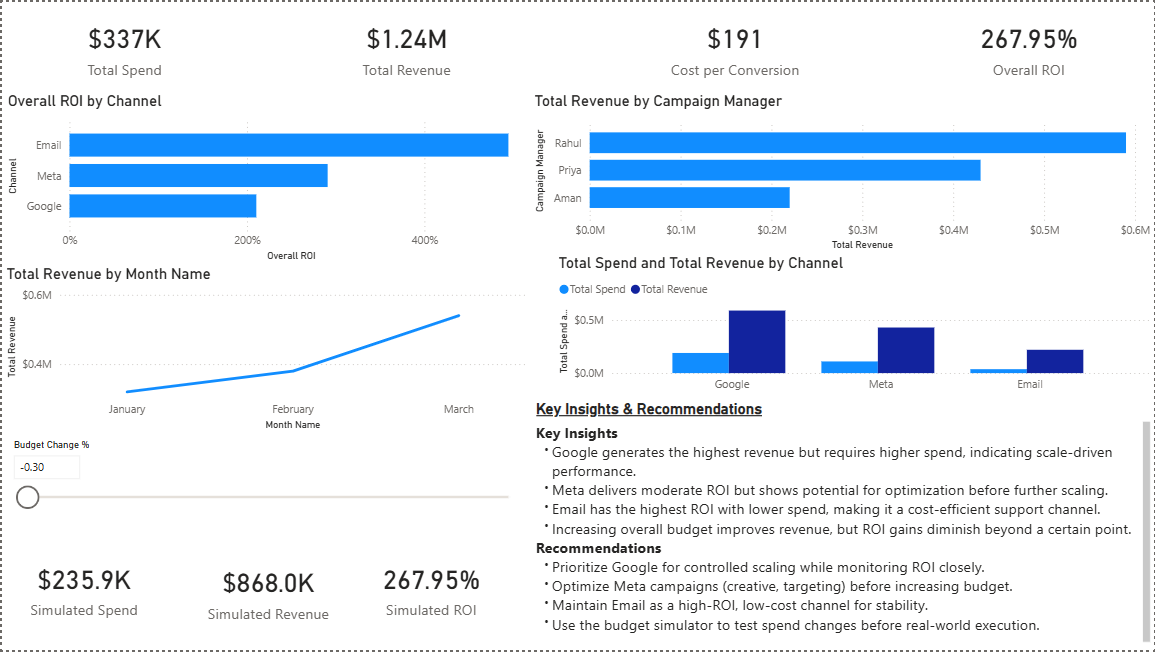

Layout of this report page (visuals, bound fields, positions):
{"tool":"powerbi","page":{"name":"Executive Overview","canvas":[1280,720],"ordinal":0},"visuals":[{"type":"card","fields":{"Values":["Campaign_Performance.Total Spend"]},"box":[0,0,272,100],"z":0},{"type":"card","fields":{"Values":["Campaign_Performance.Total Revenue"]},"box":[314,0,272,100],"z":1000},{"type":"card","fields":{"Values":["Campaign_Performance.ROI"]},"box":[1002,0,278,100],"z":2000},{"type":"card","fields":{"Values":["Campaign_Performance.Cost per Conversion"]},"box":[678,0,272,100],"z":3000},{"type":"clusteredColumnChart","title":"Spend Vs Revenue By Channel","fields":{"Category":["Campaign_Performance.Channel"],"Y":["Campaign_Performance.Total Spend","Campaign_Performance.Total Revenue"]},"box":[588,280,692,162],"z":4000},{"type":"clusteredBarChart","fields":{"Category":["Campaign_Performance.Channel"],"Y":["Campaign_Performance.ROI"]},"box":[2,100,586,192],"z":5000},{"type":"lineChart","fields":{"Category":["Campaign_Performance.Month Name"],"Y":["Campaign_Performance.Total Revenue"]},"box":[0,292,586,188],"z":6000},{"type":"clusteredBarChart","fields":{"Category":["Campaign_Performance.Campaign Manager"],"Y":["Campaign_Performance.Total Revenue"]},"box":[586,100,694,180],"z":7000},{"type":"slicer","fields":{"Values":["Budget Change %.Budget Change %"]},"box":[0,480,586,124],"z":8000},{"type":"card","fields":{"Values":["Budget Change %.Adjusted Spend"]},"box":[0,582,182,138],"z":9000},{"type":"card","fields":{"Values":["Budget Change %.Adjusted Revenue"]},"box":[182,604,228,102],"z":10000},{"type":"card","fields":{"Values":["Budget Change %.Adjusted ROI"]},"box":[376,582,200,138],"z":11000},{"type":"textbox","title":"Key Insights & Recommendations","box":[588,442,692,278],"z":12000}]}

Visuals, with their boxes in screenshot pixels (x1, y1, x2, y2), scaled from the page's 1280x720 canvas onto the 1155x652 screenshot:
card - Campaign_Performance.Total Spend: 0:0:245:91
card - Campaign_Performance.Total Revenue: 283:0:529:91
card - Campaign_Performance.ROI: 904:0:1154:91
card - Campaign_Performance.Cost per Conversion: 612:0:857:91
"Spend Vs Revenue By Channel" clusteredColumnChart: 531:254:1154:400
clusteredBarChart - Campaign_Performance.Channel x Campaign_Performance.ROI: 2:91:531:264
lineChart - Campaign_Performance.Month Name x Campaign_Performance.Total Revenue: 0:264:529:435
clusteredBarChart - Campaign_Performance.Campaign Manager x Campaign_Performance.Total Revenue: 529:91:1154:254
slicer - Budget Change %.Budget Change %: 0:435:529:547
card - Budget Change %.Adjusted Spend: 0:527:164:651
card - Budget Change %.Adjusted Revenue: 164:547:370:639
card - Budget Change %.Adjusted ROI: 339:527:520:651
"Key Insights & Recommendations" textbox: 531:400:1154:651
